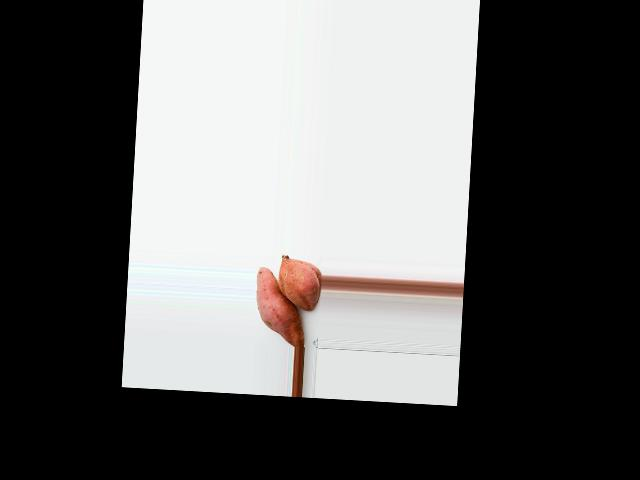sweet_potato: (280, 254, 317, 308)
